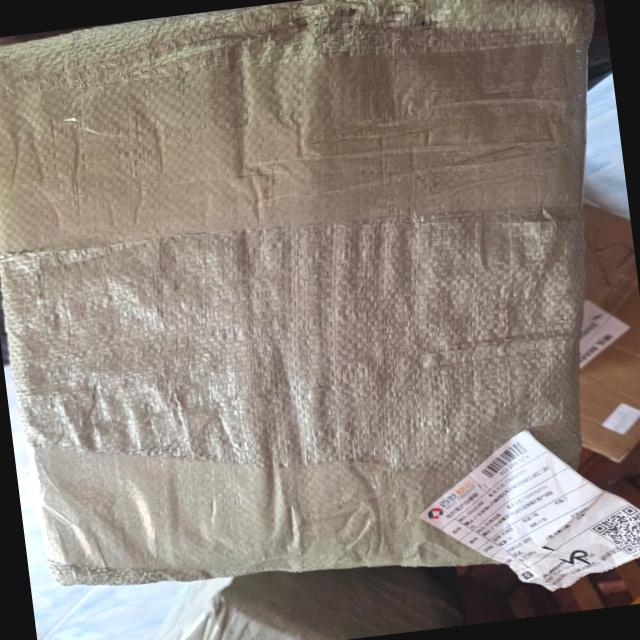export_mark_label: (375, 400, 640, 615)
